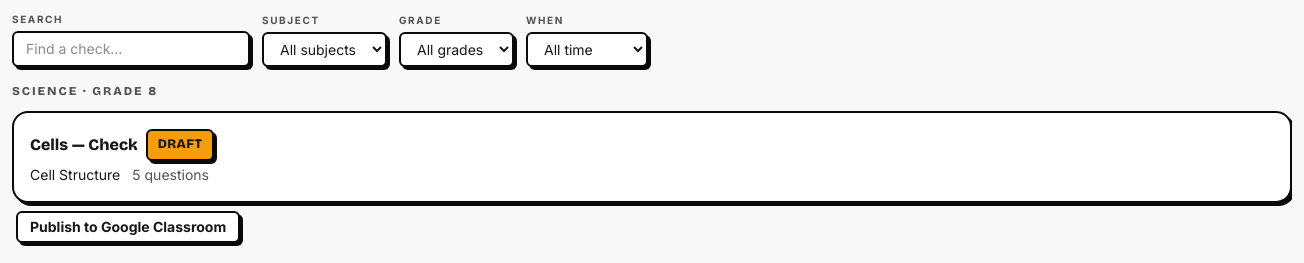
QuizLibrary — Publish to Classroom (gated on googleCourseId) › shows a "Reconnect Google" link when needsReconnect:true is returned
Click the button "Publish to Google Classroom". click: coordinates (128, 226)
box: [16,210,240,242]
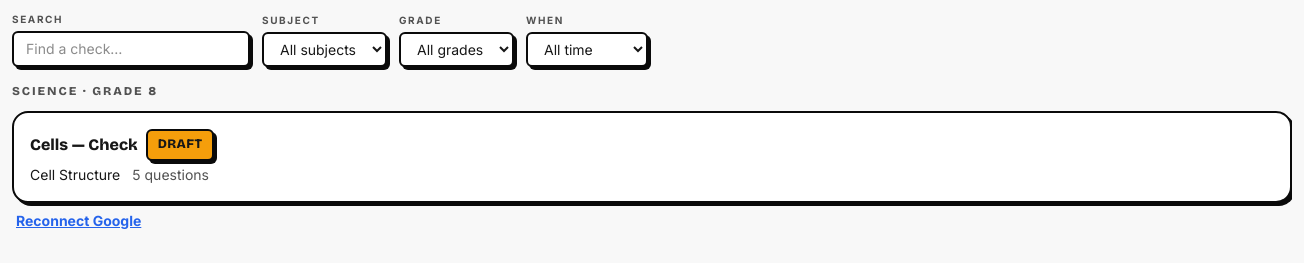
Result: the link "Reconnect Google" is shown at [16,210,141,230]
